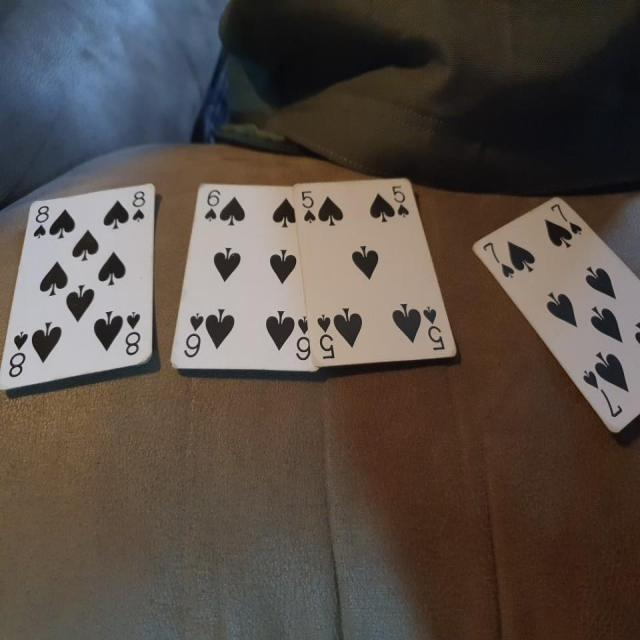5 Spades: (297, 170, 464, 385)
6 Spades: (161, 172, 318, 384)
7 Spades: (465, 188, 640, 434)
8 Spades: (1, 185, 163, 398)
